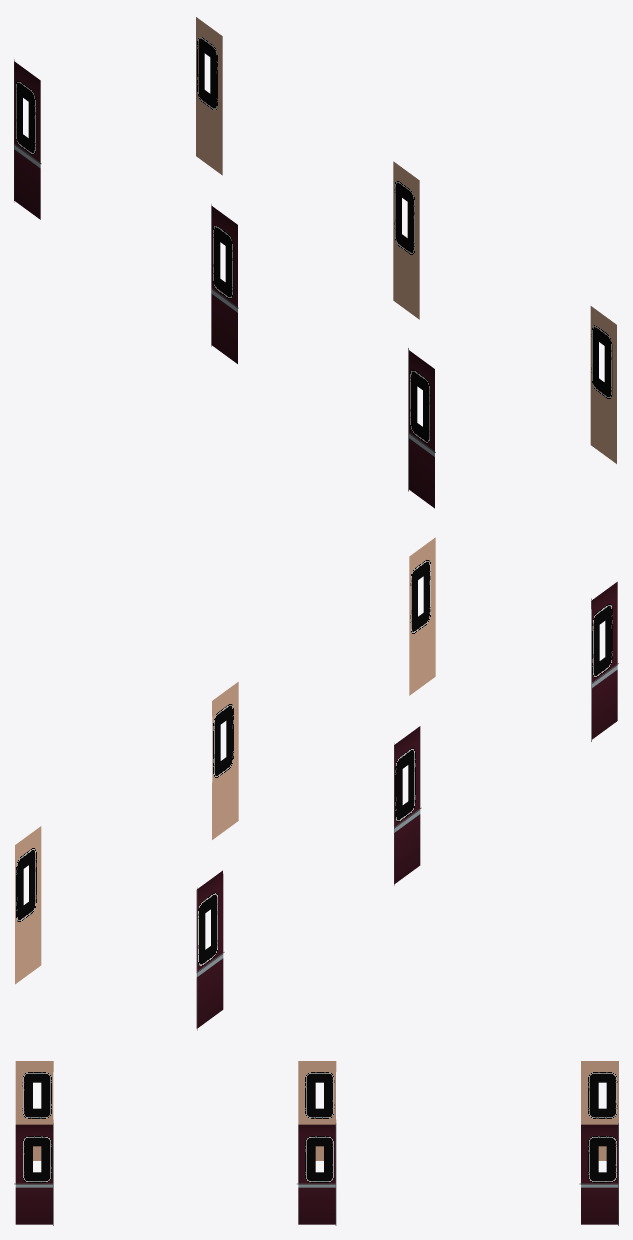
Rendered from OP_7001_DOOR_L.glb.
The picture shows the model from 3 angles, top to bottom: view 1: azimuth 30°, elevation 25°; view 2: azimuth 150°, elevation 25°; view 3: azimuth 270°, elevation 25°; orthographic projection. The views are drawn at different scales.
Visible parts, largest first — view 1: obj5; view 2: obj5; view 3: obj5.
Boxes of the visible parts, left/top/right/bottom form: obj5: left=14, top=17, right=616, bottom=508; obj5: left=15, top=537, right=618, bottom=1030; obj5: left=14, top=1061, right=618, bottom=1225.
Size of the model in its own units: 6.16 by 4.62 by 24.61.
6 materials, 6 textured.
